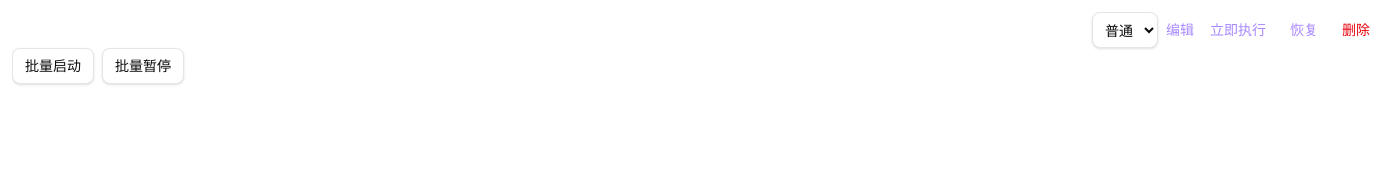
Test case: 任务管理 › 单项和批量操作 loading 时保留文案、禁用并显示 Loader2
Click the button "恢复" at [1304, 30], box 1282,20 -> 1326,40
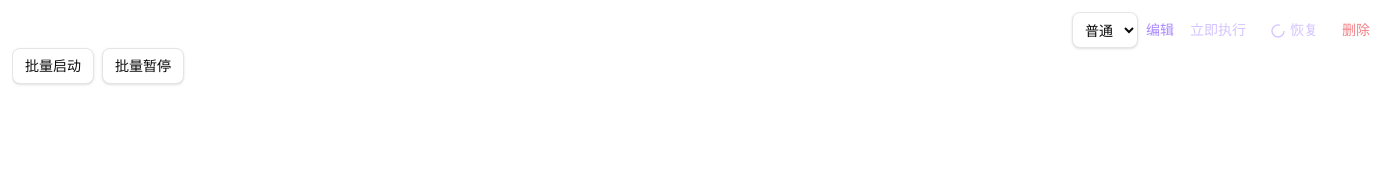
expect the button "恢复" is shown: met, box 1262,20 -> 1326,40
expect the button "恢复" is disabled: met, box 1262,20 -> 1326,40
expect the icon with class "animate-spin" is shown: met, box 1270,23 -> 1286,39
Click the button "批量启动" at [53, 66], box 12,48 -> 94,84
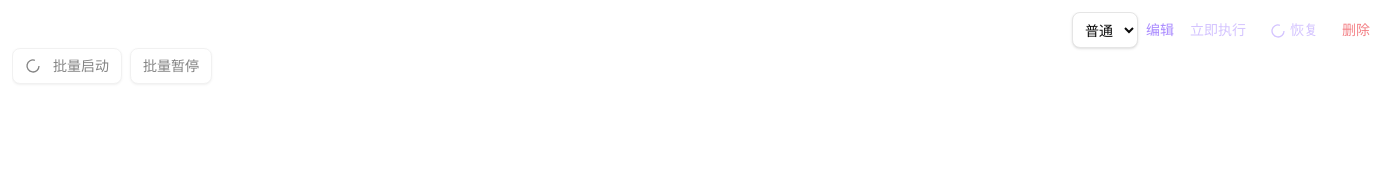
expect the button "批量启动" is shown: met, box 12,48 -> 122,84
expect the button "批量启动" is disabled: met, box 12,48 -> 122,84
expect the 2nd icon with class "animate-spin" is shown: met, box 25,58 -> 41,74
